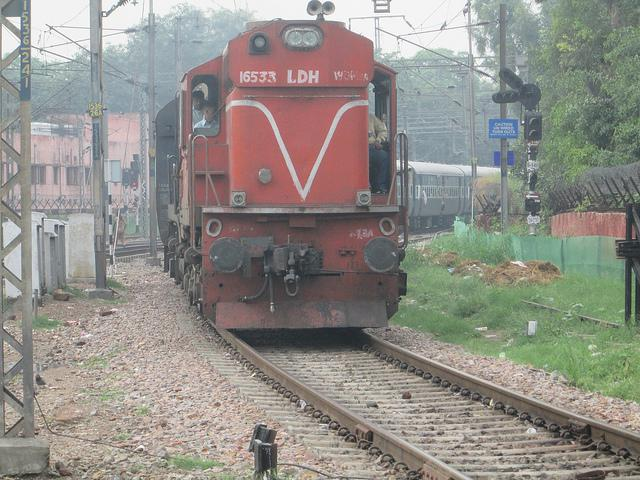Train: (153, 0, 471, 326)
